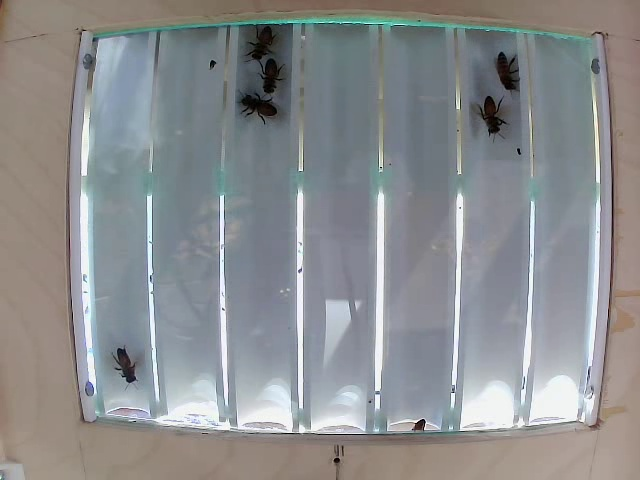bee: (95, 338, 141, 388), (471, 85, 507, 147), (241, 80, 277, 127), (258, 58, 291, 99), (494, 47, 521, 97), (245, 18, 277, 54)
